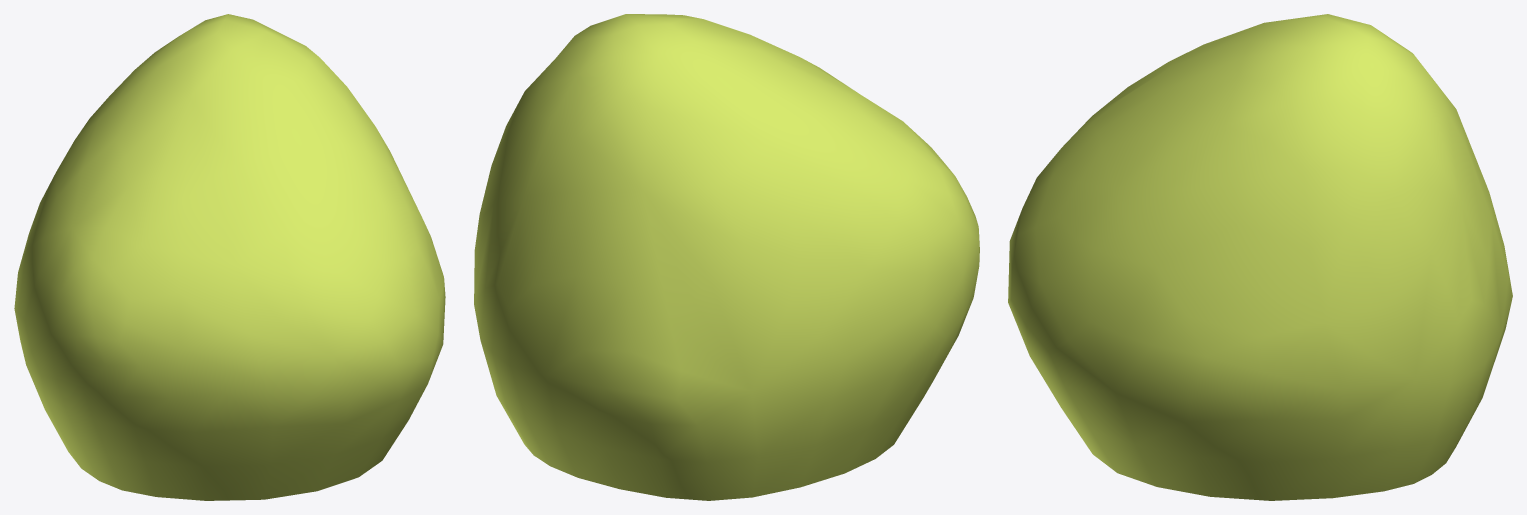
Rendered from BigBush_B.fbx.
3 renders of one model, left to right at view 1: azimuth 30°, elevation 25°; view 2: azimuth 150°, elevation 25°; view 3: azimuth 270°, elevation 25°, orthographic. The views are drawn at different scales.
Visible parts, largest first — view 1: Bush_b_l_05; view 2: Bush_b_l_05; view 3: Bush_b_l_05.
Boxes of the visible parts, x1=… form: Bush_b_l_05: x1=14, y1=14, x2=445, y2=500; Bush_b_l_05: x1=474, y1=14, x2=979, y2=500; Bush_b_l_05: x1=1008, y1=14, x2=1512, y2=500.
Size of the model in its own units: 224 by 207 by 226.
